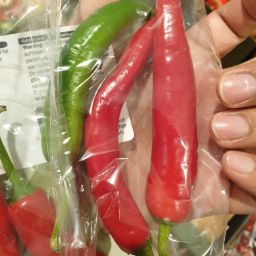Jalapeno pepper: (19, 10, 214, 246), (78, 5, 228, 256), (70, 33, 169, 242), (10, 135, 68, 256)
